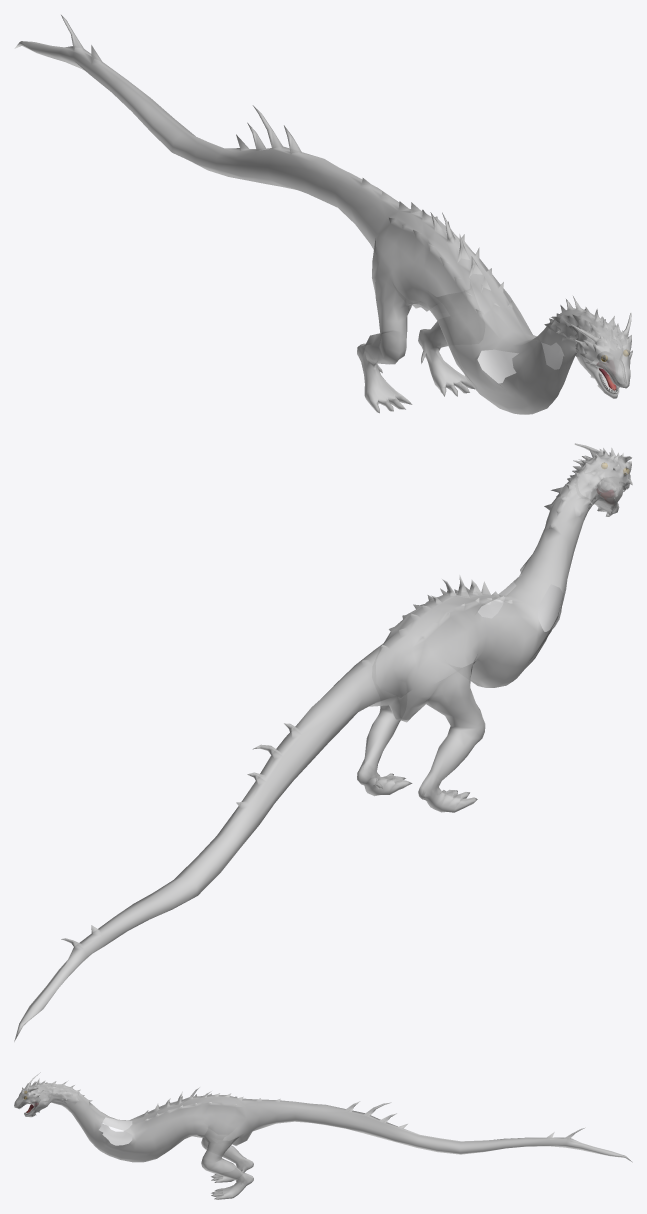
The model's file is dragonCuerpo.obj.
3 views of the same model, one above another, from view 1: azimuth 30°, elevation 25°; view 2: azimuth 150°, elevation 25°; view 3: azimuth 270°, elevation 25° (orthographic). The views are drawn at different scales.
Parts seen in each view (by area): view 1: smaug_Smaug; view 2: smaug_Smaug; view 3: smaug_Smaug.
Boxes of the visible parts, left/top/right/bottom form: smaug_Smaug: left=14, top=15, right=632, bottom=414; smaug_Smaug: left=14, top=443, right=632, bottom=1041; smaug_Smaug: left=14, top=1072, right=632, bottom=1199.
Bounding box in the file's own units: 1.97 × 4.07 × 20.87.
